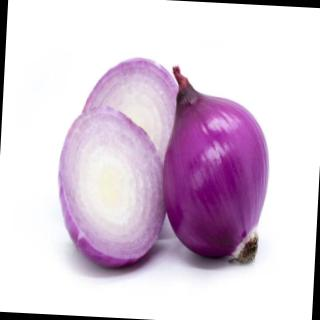Bawang Merah: (155, 64, 277, 268)
